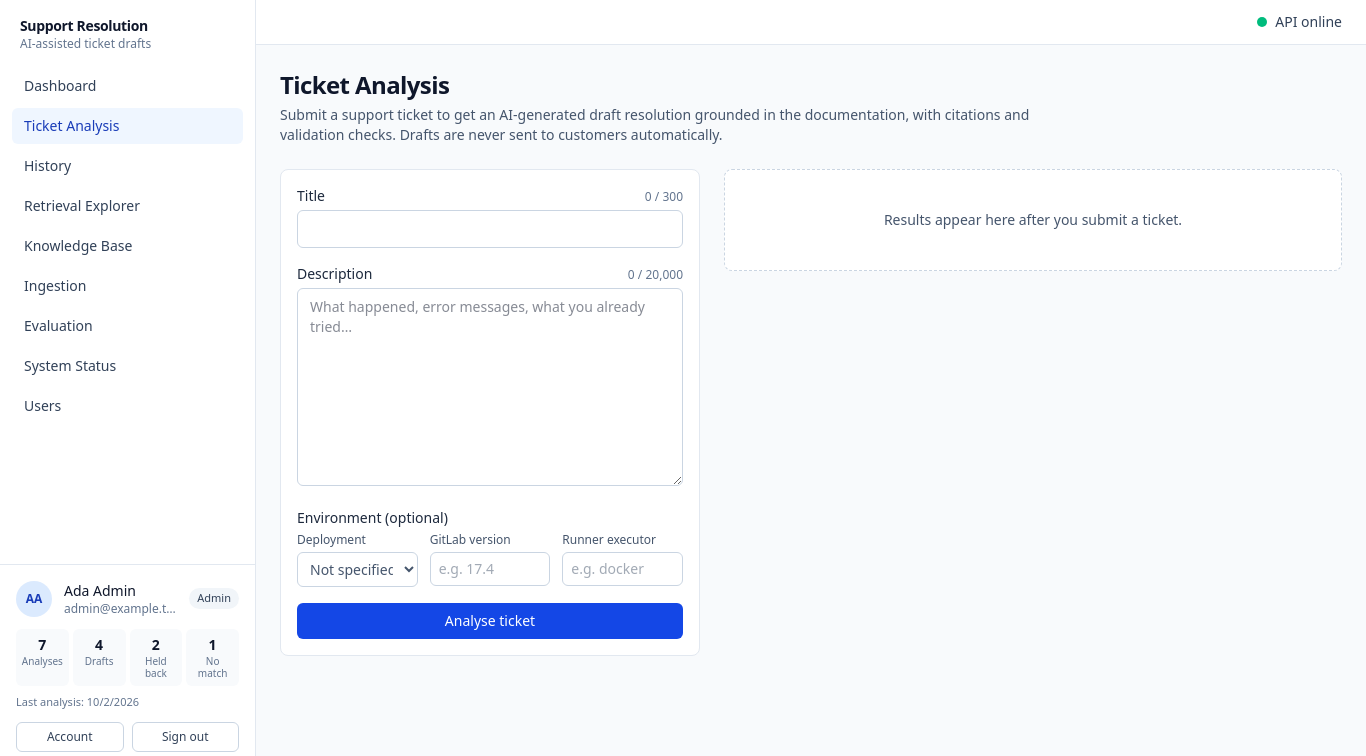
Test: Ticket Analysis › flags serious review reasons in one line
Type "Runner TLS error" into the field labelled "Title" at (490, 229), box [297,210,683,248]
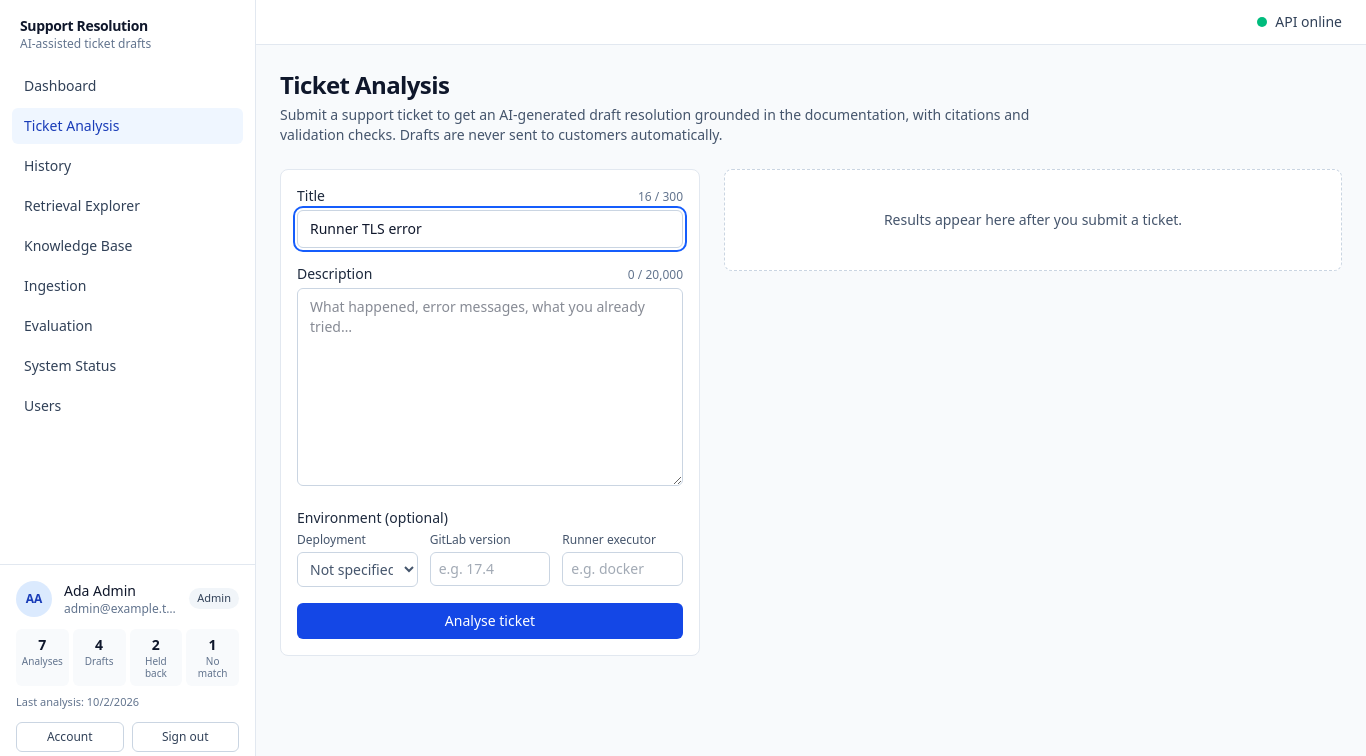
Type "x509: certificate signed by unknown authority" into the text box labelled "Description" at (490, 387), box [297,288,683,486]
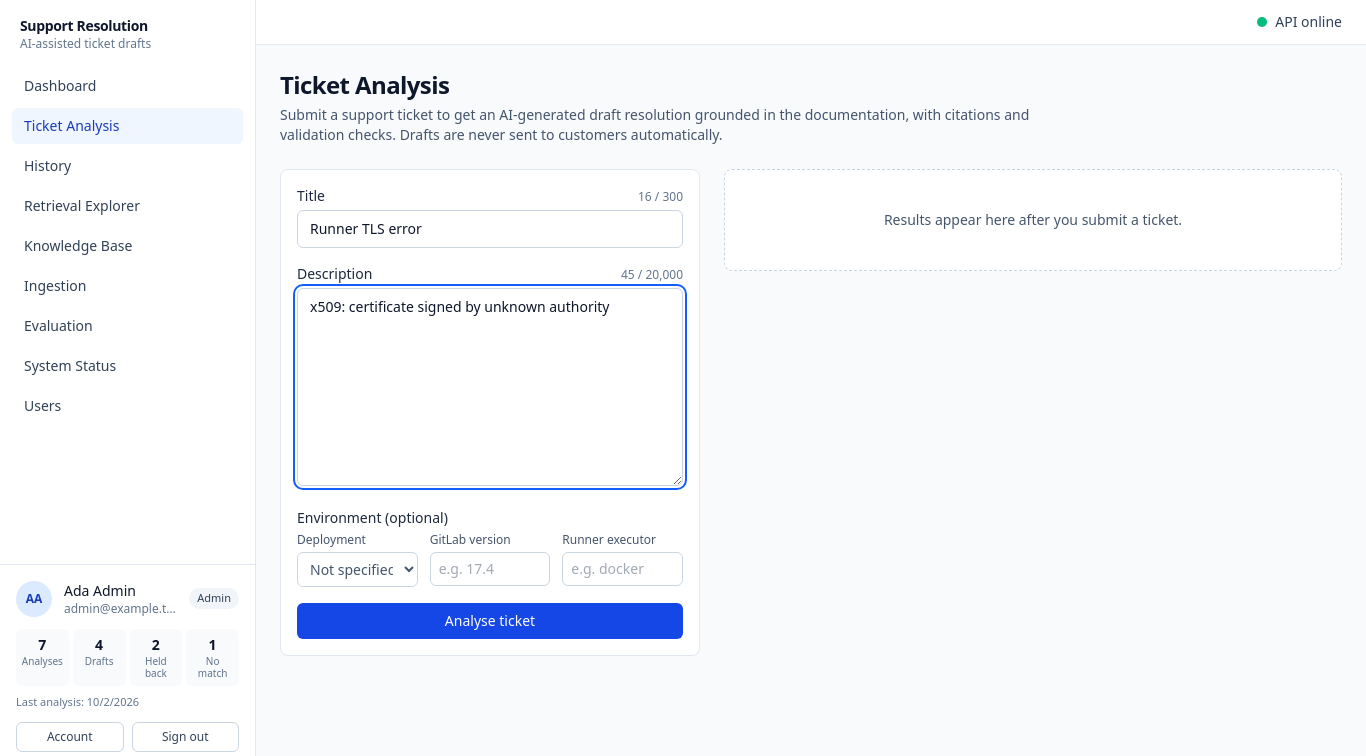
Click the button "Analyse ticket" at (490, 621), box [297,603,683,639]
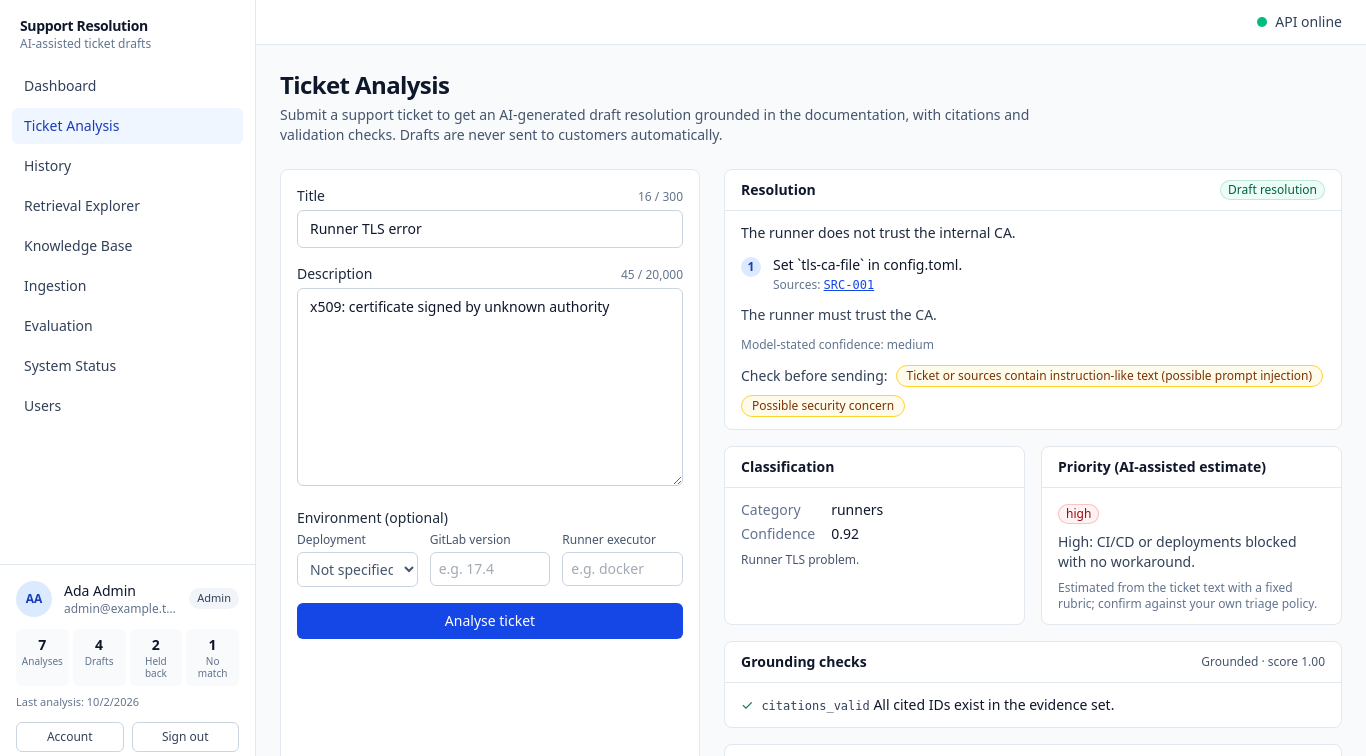
Check: the text "Possible security concern" is shown, box [741,395,905,417]
Check: the text "possible prompt injection" is shown, box [907,367,1312,384]
